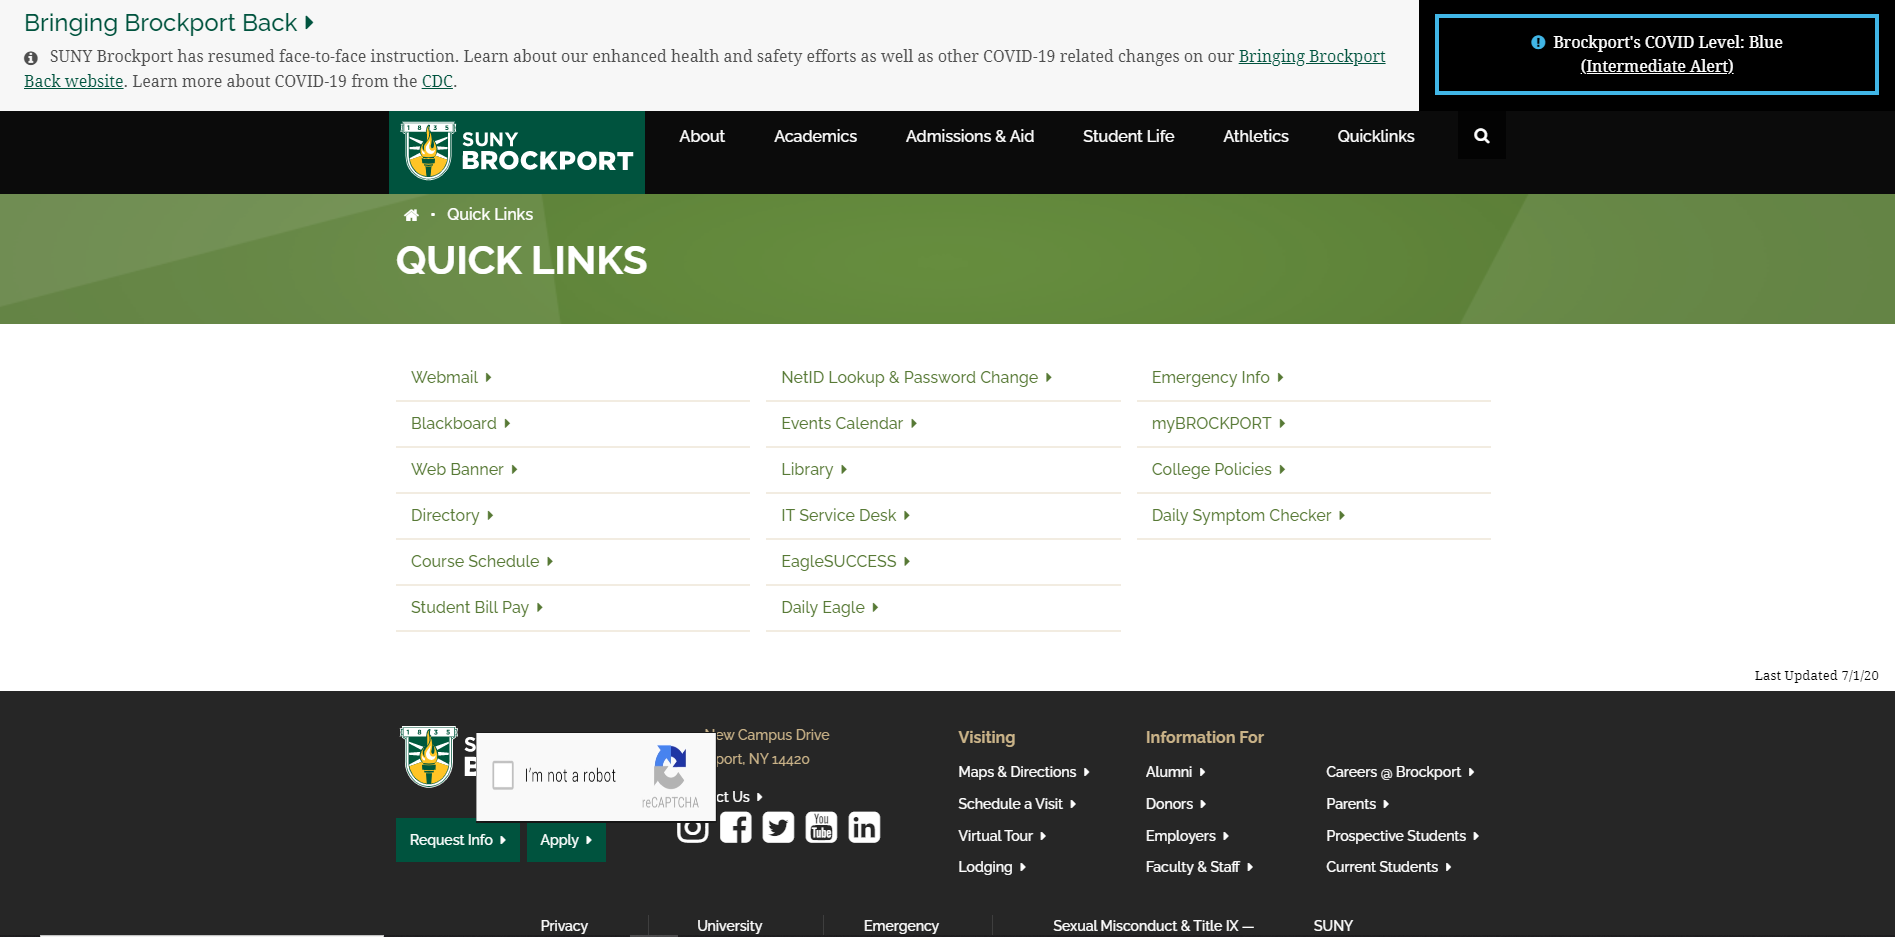captcha: (477, 733, 715, 821)
